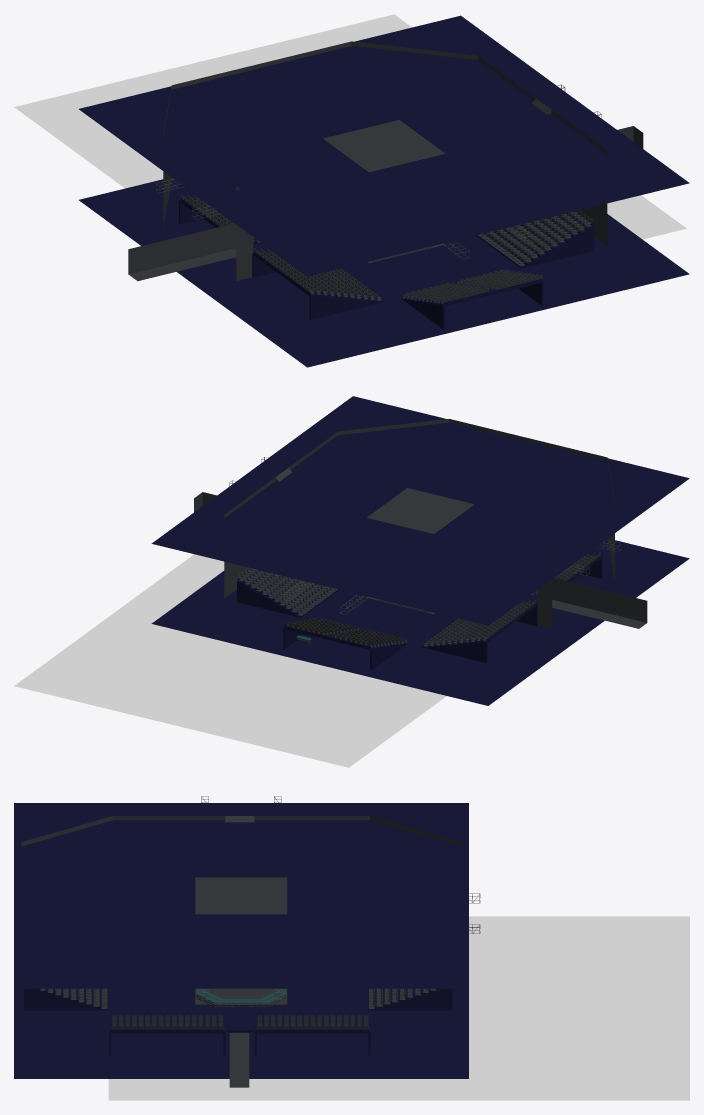
The model's file is Stadium.fbx.
3 views of the same model, one above another, from view 1: azimuth 30°, elevation 25°; view 2: azimuth 150°, elevation 25°; view 3: azimuth 270°, elevation 25° (orthographic). The views are drawn at different scales.
Parts seen in each view (by area): view 1: Plane.007, Plane.001, Plane, Plane.002, Chairs, Chairs.003, Cube.009, Cube, Chairs.006, Cube.004, Chairs.007, Cube.013 (+3 smaller); view 2: Plane.007, Plane, Plane.001, Plane.002, Chairs.001, Chairs.004, Cube.010, Chairs.002, Cube.007, Chairs.005, Cube.001, Cube.006; view 3: Plane.007, Plane, Plane.001, Plane.002, Chairs, Chairs.001, Cube.006, Cube.013, Cube.001, Cube, Circle.002, Chairs.007 (+1 smaller).
Part boxes in pixels (left/top/right/bottom): Plane.007: left=79, top=15, right=689, bottom=276; Plane.001: left=79, top=179, right=689, bottom=367; Plane: left=14, top=14, right=686, bottom=239; Plane.002: left=128, top=41, right=643, bottom=280; Chairs: left=478, top=210, right=592, bottom=266; Chairs.003: left=253, top=248, right=381, bottom=300; Cube.009: left=252, top=253, right=383, bottom=319; Cube: left=476, top=211, right=593, bottom=267; Chairs.006: left=402, top=282, right=488, bottom=303; Cube.004: left=520, top=227, right=594, bottom=268; Chairs.007: left=457, top=269, right=542, bottom=289; Cube.013: left=401, top=281, right=543, bottom=329; Plane.007: left=151, top=396, right=689, bottom=625; Plane: left=14, top=554, right=446, bottom=767; Plane.001: left=151, top=540, right=689, bottom=705; Plane.002: left=194, top=419, right=647, bottom=628; Chairs.001: left=238, top=567, right=337, bottom=615; Chairs.004: left=423, top=600, right=536, bottom=646; Cube.010: left=422, top=604, right=537, bottom=662; Chairs.002: left=331, top=629, right=406, bottom=647; Cube.007: left=237, top=581, right=302, bottom=617; Chairs.005: left=283, top=617, right=358, bottom=635; Cube.001: left=238, top=570, right=339, bottom=616; Cube.006: left=283, top=628, right=408, bottom=670; Plane.007: left=14, top=803, right=468, bottom=988; Plane: left=108, top=916, right=689, bottom=1100; Plane.001: left=14, top=988, right=468, bottom=1078; Plane.002: left=21, top=816, right=461, bottom=1087; Chairs: left=112, top=1015, right=223, bottom=1029; Chairs.001: left=257, top=1015, right=368, bottom=1029; Cube.006: left=368, top=988, right=452, bottom=1010; Cube.013: left=24, top=988, right=107, bottom=1010; Cube.001: left=255, top=1019, right=368, bottom=1033; Cube: left=110, top=1019, right=223, bottom=1033; Circle.002: left=196, top=988, right=286, bottom=1007; Chairs.007: left=40, top=988, right=107, bottom=1008.
Size of the model in its own units: 15944 by 2881 by 18601.
7 materials, 1 textured.
